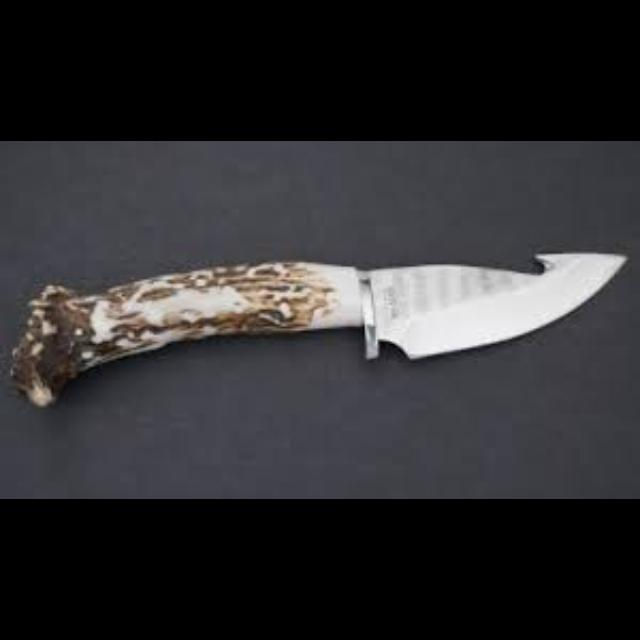knife: (9, 250, 627, 408)
